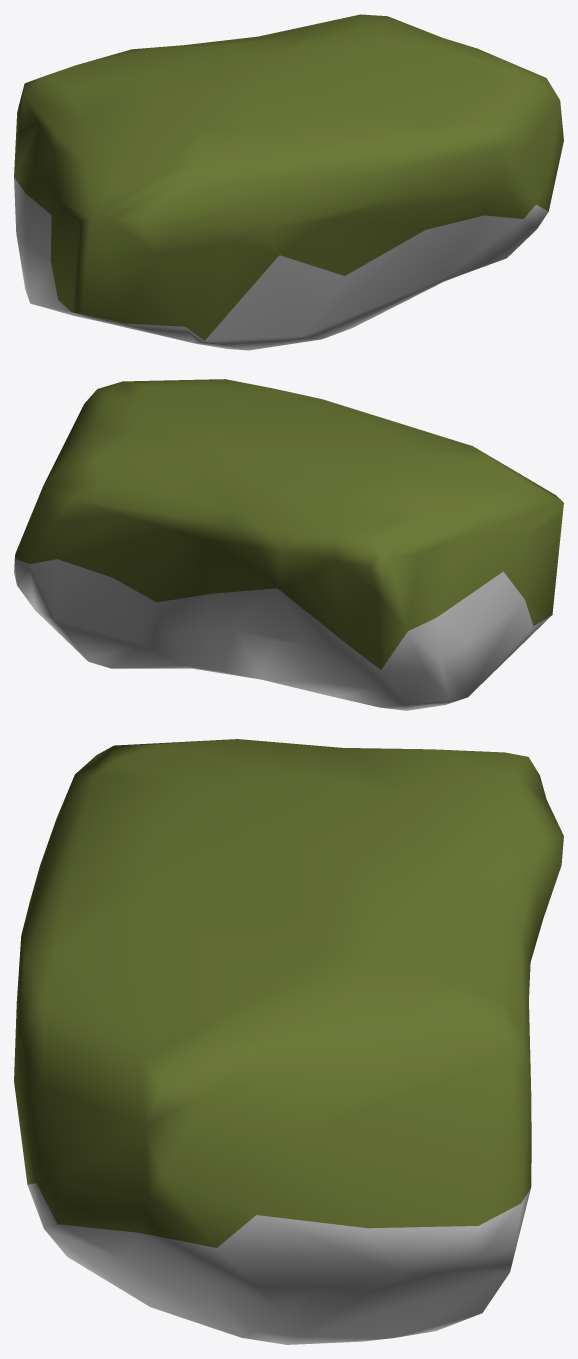
The model's file is Rock_3_mossy_2.glb.
3 renders of one model, top to bottom at view 1: azimuth 30°, elevation 25°; view 2: azimuth 150°, elevation 25°; view 3: azimuth 270°, elevation 25°, orthographic. The views are drawn at different scales.
Visible parts, largest first — view 1: Rock_3_mossy_2; view 2: Rock_3_mossy_2; view 3: Rock_3_mossy_2.
Part boxes in pixels (box(x1,y1,x2,y2)): Rock_3_mossy_2: box(14, 14, 563, 350); Rock_3_mossy_2: box(14, 379, 563, 710); Rock_3_mossy_2: box(14, 739, 563, 1344).
Bounding box in the file's own units: 0.4993 × 0.2338 × 0.3055.
Materials: 1 (1 with a texture image).
